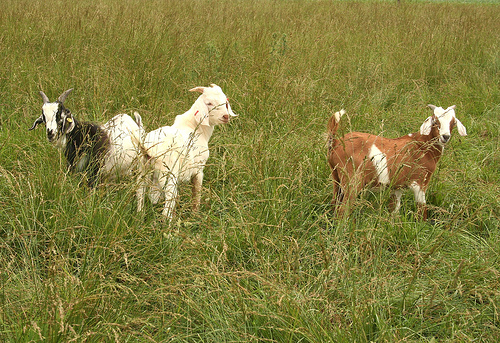goat: (327, 103, 467, 226), (136, 82, 237, 220), (29, 88, 147, 190)
